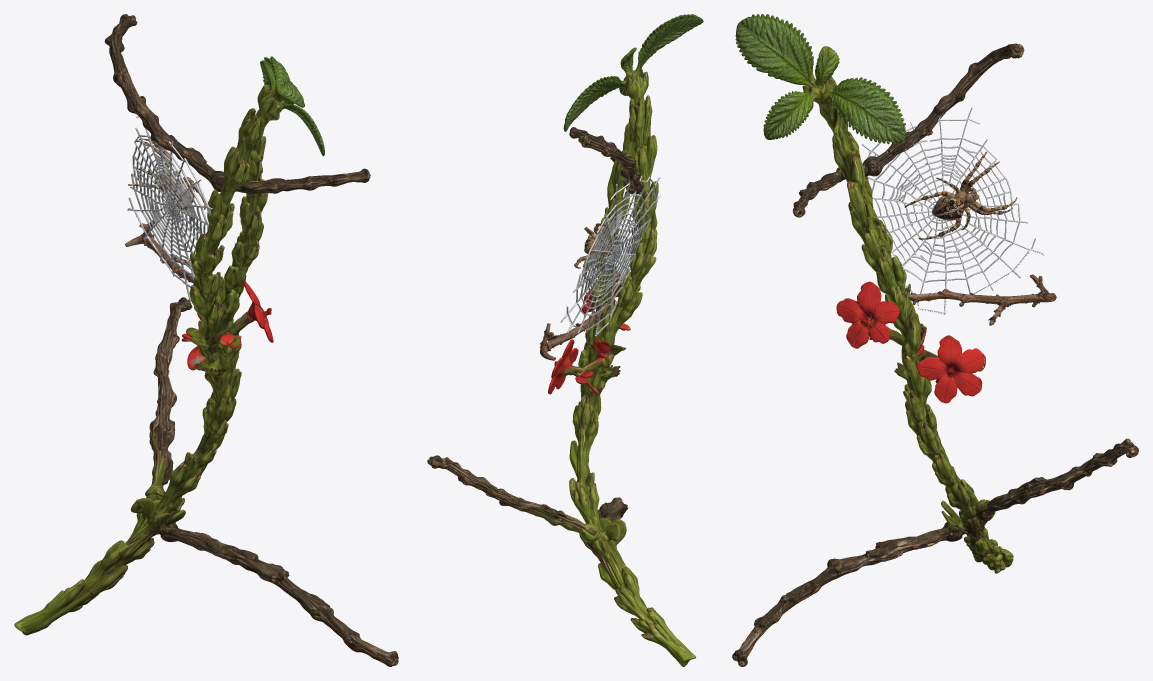
The model's file is stachytarpheta_microphylla_con_araña 1.fbx.
The picture shows the model from 3 angles, left to right: view 1: azimuth 30°, elevation 25°; view 2: azimuth 150°, elevation 25°; view 3: azimuth 270°, elevation 25°; orthographic projection. The views are drawn at different scales.
Visible parts, largest first — view 1: tripo_node_56608686; view 2: tripo_node_56608686; view 3: tripo_node_56608686.
Part boxes in pixels (x1,y1,x2,y2): tripo_node_56608686: (14,14,398,666); tripo_node_56608686: (427,14,703,666); tripo_node_56608686: (732,14,1138,666).
Bounding box in the file's own units: 262 × 631 × 380.
Materials: 3 (3 with a texture image).
